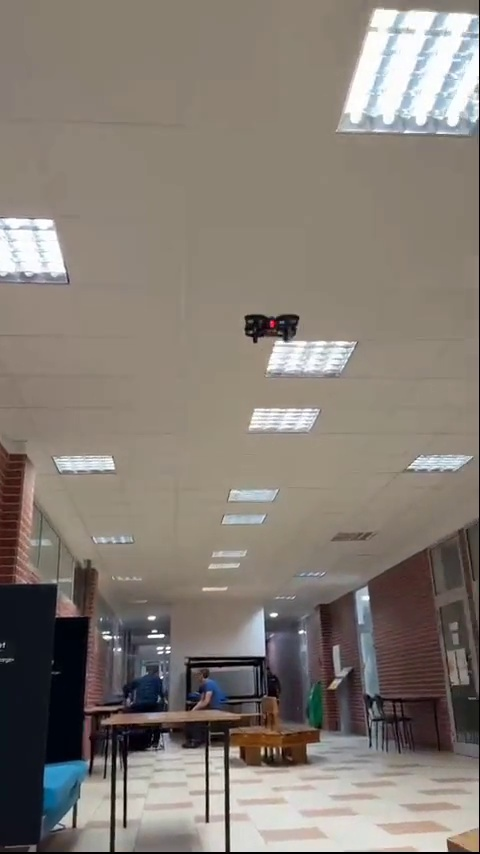drone: (248, 310, 298, 342)
no vest: (120, 661, 170, 710), (188, 664, 230, 713)
